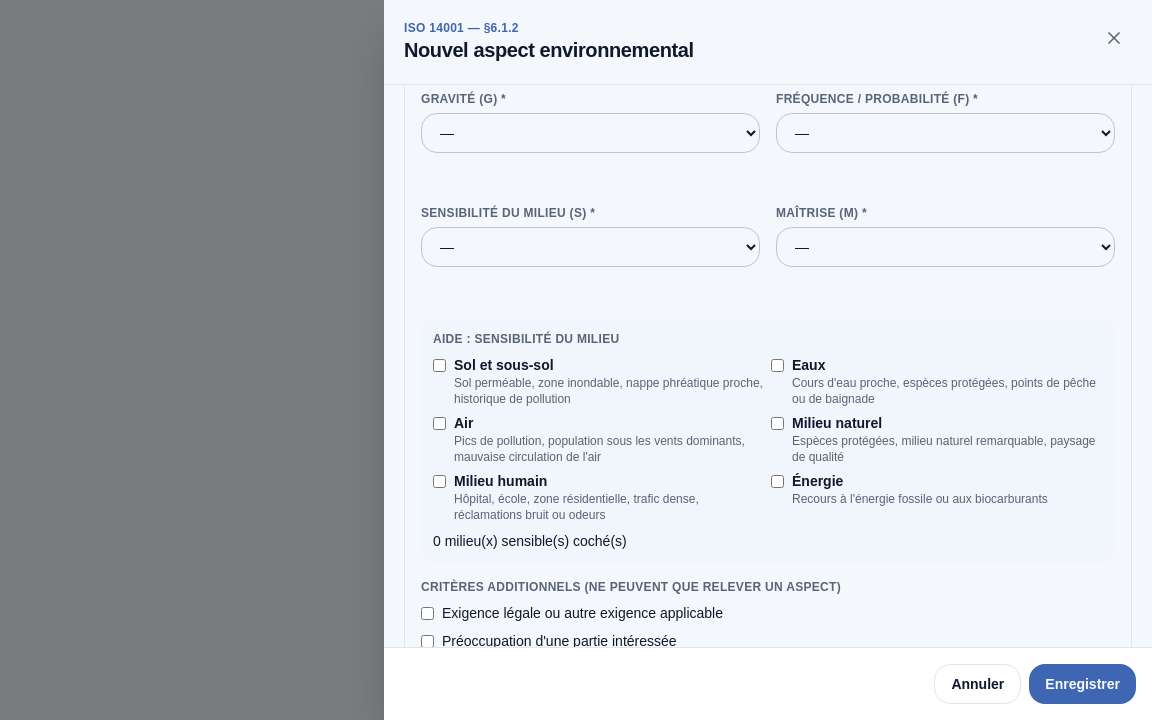
it: formulaire d'aspect › propose le niveau de sensibilité d'après les milieux cochés
(page scrolled)
Step 1. Click the checkbox labelled "Sol et sous-sol" → (440, 366), box [433,359,446,372]
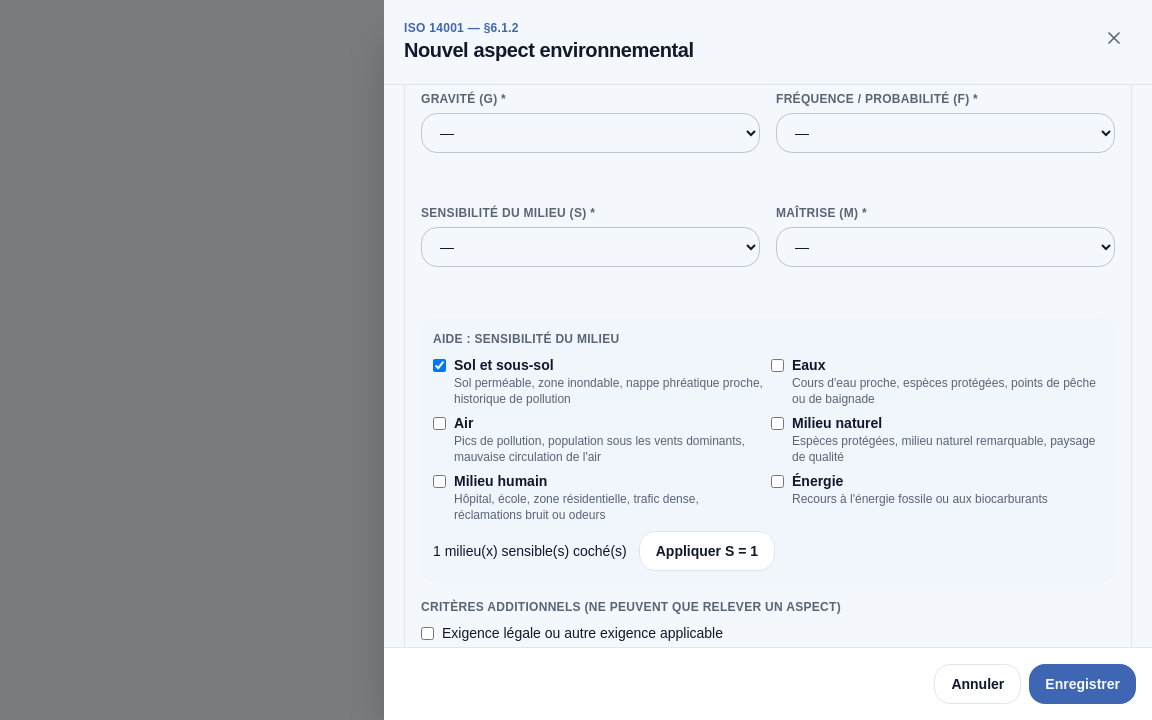
Step 2. Click the checkbox labelled "Eaux" → (778, 366), box [771,359,784,372]
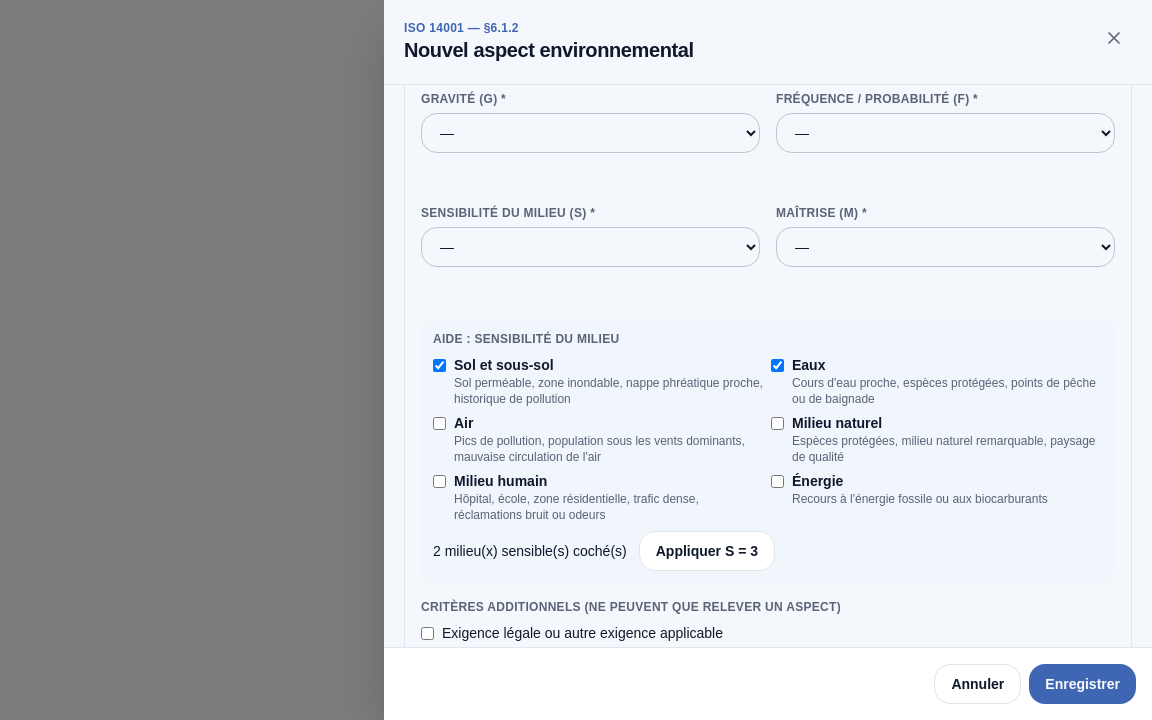
Step 3. Click the checkbox labelled "Air" → (440, 424), box [433,417,446,430]
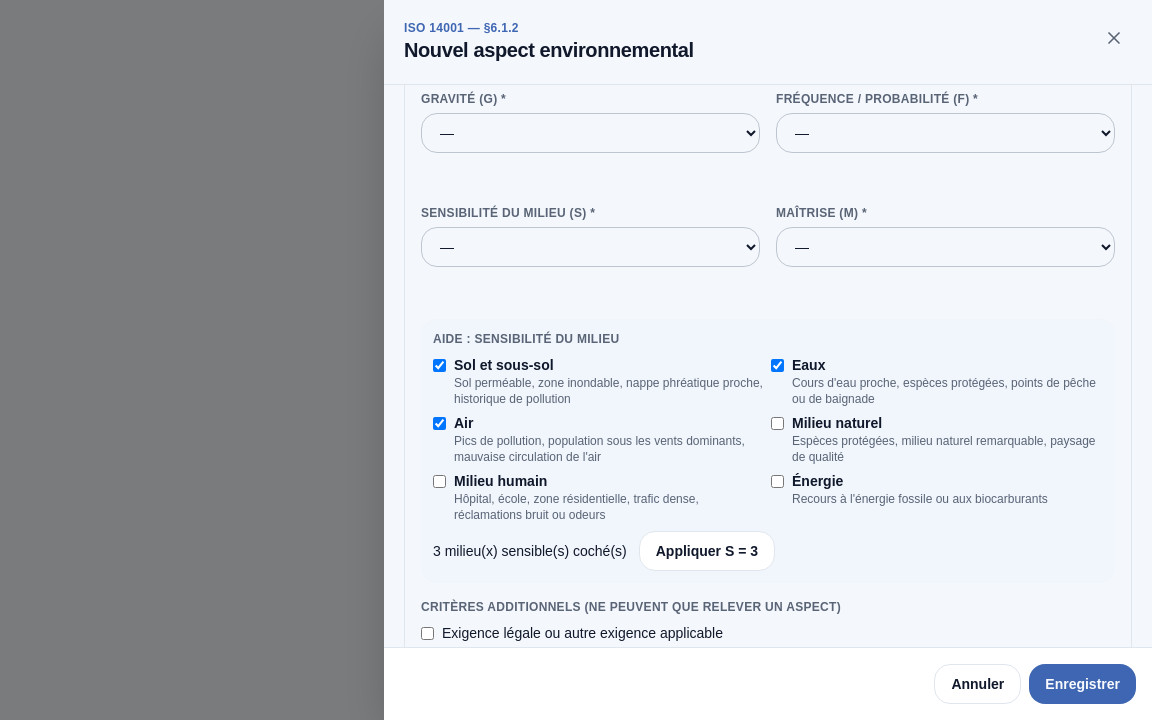
Step 4. Click the checkbox labelled "Milieu humain" → (440, 482), box [433,475,446,488]
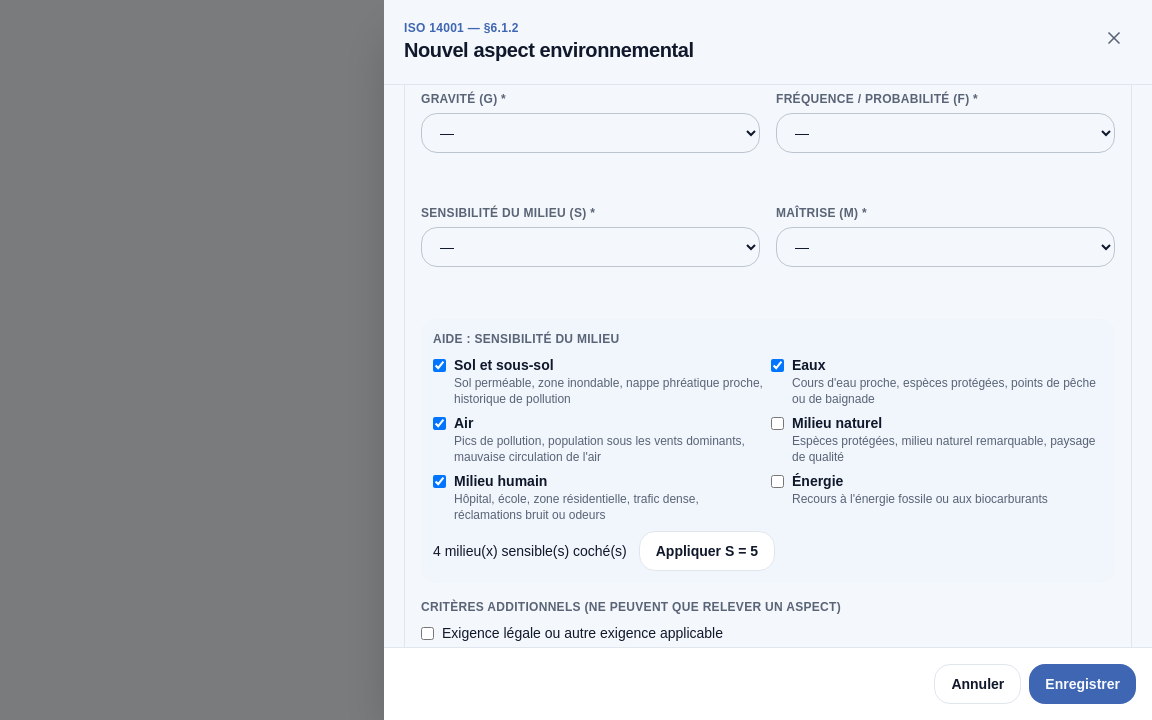
Step 5. Click the button "Appliquer S = 5" → (707, 551), box [639,531,775,571]
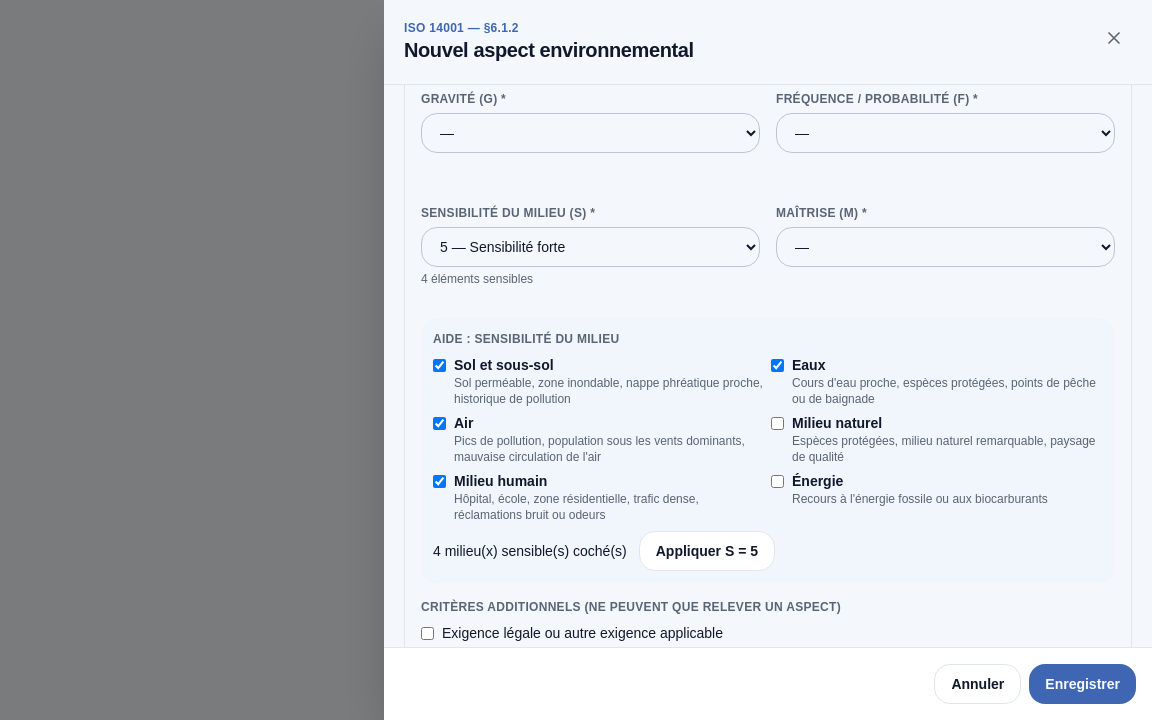
Expected: the dropdown named "Sensibilité du milieu" shows "5 — Sensibilité forte", [421,227,760,267]
